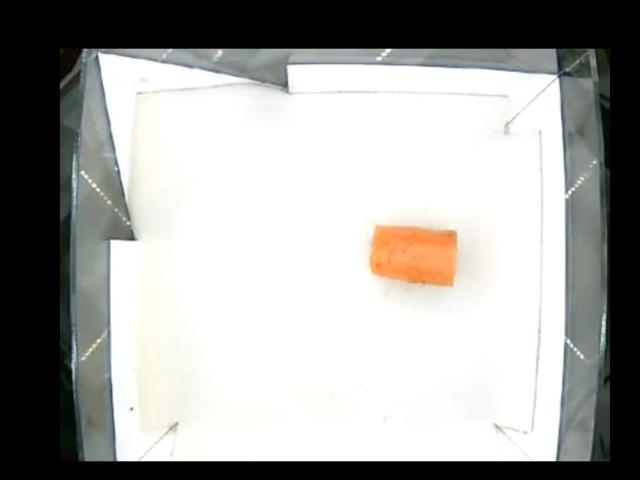Carrot: (370, 224, 460, 287)
